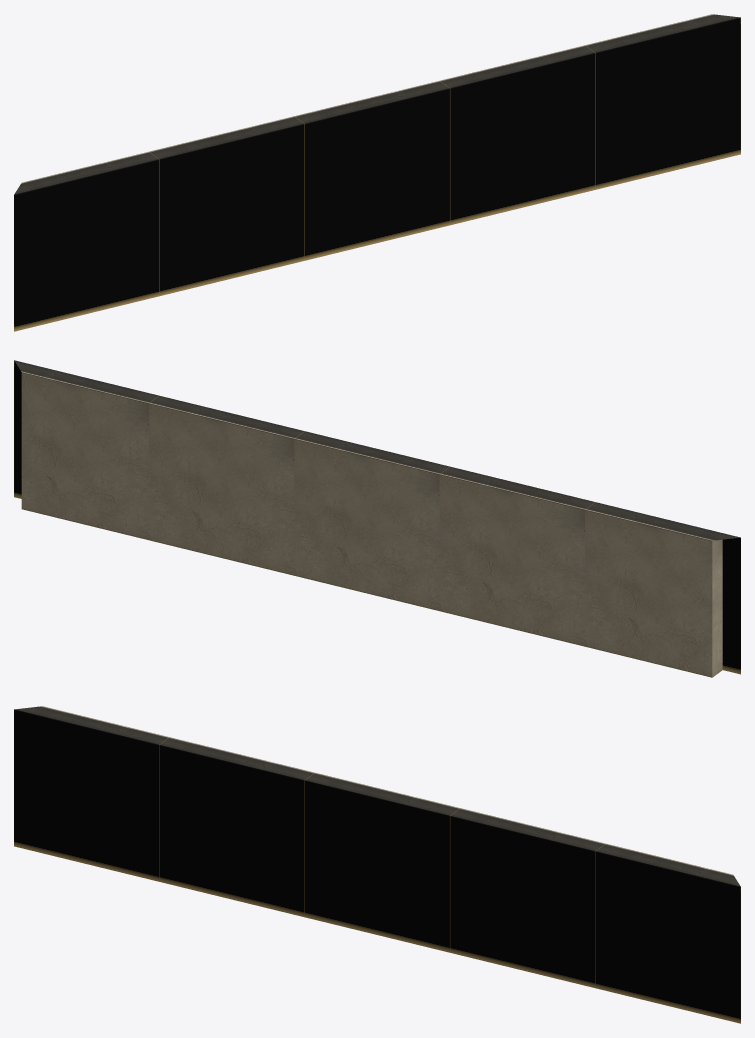
File: Room_Walls.fbx
The picture shows the model from 3 angles, top to bottom: view 1: azimuth 30°, elevation 25°; view 2: azimuth 150°, elevation 25°; view 3: azimuth 330°, elevation 25°; orthographic projection.
Parts seen in each view (by area): view 1: Wall; view 2: Wall, Open; view 3: Wall.
Boxes of the visible parts, left/top/right/bottom form: Wall: left=14, top=14, right=740, bottom=331; Wall: left=14, top=360, right=740, bottom=677; Open: left=712, top=539, right=722, bottom=677; Wall: left=14, top=706, right=740, bottom=1023.
Size of the model in its own units: 10 by 1.8 by 0.25.
1 material, 1 textured.
